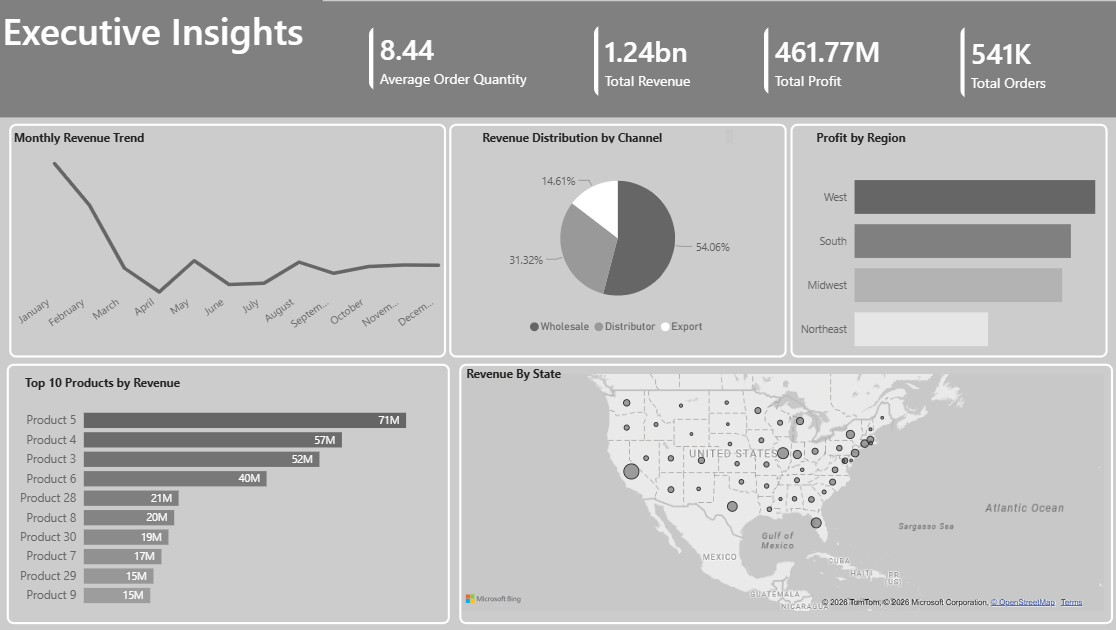

The dashboard page shown, as its layout file describes it:
{"tool":"powerbi","page":{"name":"Executive Insights ","canvas":[1280,720],"ordinal":0},"visuals":[{"type":"shape","box":[0,1.2,1280,132.7],"z":0},{"type":"textbox","box":[0,0,371.6,71.2],"z":1000},{"type":"cardVisual","fields":{"Data":["Avg(cleaned_data.order_quantity)"]},"box":[406.6,13.3,234,108.6],"z":2000},{"type":"shape","box":[12.3,141.3,499.5,267.6],"z":3000},{"type":"cardVisual","fields":{"Data":["Sum(cleaned_data.revenue)"]},"box":[664.7,12.1,156.8,117],"z":4000},{"type":"cardVisual","fields":{"Data":["Sum(cleaned_data.profit)"]},"box":[859,13.3,179.8,113.4],"z":5000},{"type":"cardVisual","fields":{"Data":["Sum(cleaned_data.order_quantity)"]},"box":[1083.4,13.3,150.8,117],"z":6000},{"type":"lineChart","fields":{"Category":["cleaned_data.order_month.Variation.Date Hierarchy.Month"],"Y":["Sum(cleaned_data.revenue)"]},"box":[12.3,168.8,511.8,219.6],"z":7000},{"type":"textbox","box":[12.5,142.5,545,27.5],"z":8000},{"type":"pieChart","fields":{"Y":["Sum(cleaned_data.revenue)"],"Category":["cleaned_data.channel"]},"box":[548.9,181.1,319.7,211.3],"z":9000},{"type":"textbox","box":[548.9,142.7,296.4,26.1],"z":10000},{"type":"shape","box":[516,141.3,385.6,267.6],"z":11000},{"type":"barChart","fields":{"Category":["cleaned_data.region"],"Y":["Sum(cleaned_data.profit)"]},"box":[907,172.9,373.2,249.7],"z":12000},{"type":"textbox","box":[930.4,142.7,153.7,35.7],"z":13000},{"type":"shape","box":[906.2,141.2,362.5,267.5],"z":14000},{"type":"map","fields":{"Size":["Sum(cleaned_data.revenue)"],"Category":["cleaned_data.state_name"]},"box":[523.8,422.5,745,281.2],"z":15000},{"type":"shape","box":[10,416.2,506.2,297.5],"z":16000},{"type":"shape","box":[527.5,415,747.5,297.5],"z":17000},{"type":"textbox","box":[530,412.5,477.5,27.5],"z":18000},{"type":"clusteredBarChart","fields":{"Category":["cleaned_data.product_name"],"Y":["Sum(cleaned_data.revenue)"]},"box":[13.8,450,498.8,253.8],"z":19000},{"type":"textbox","box":[26.2,422.5,300,33.8],"z":20000}]}

Visuals, with their boxes in screenshot pixels (x1, y1, x2, y2), scaled from the page's 1280x720 canvas onto the 1116x630 screenshot:
shape: locate(0, 1, 1115, 117)
textbox: locate(0, 0, 324, 62)
cardVisual - Avg(cleaned_data.order_quantity): locate(355, 12, 559, 107)
shape: locate(11, 124, 446, 358)
cardVisual - Sum(cleaned_data.revenue): locate(580, 11, 716, 113)
cardVisual - Sum(cleaned_data.profit): locate(749, 12, 906, 111)
cardVisual - Sum(cleaned_data.order_quantity): locate(945, 12, 1076, 114)
lineChart - cleaned_data.order_month.Variation.Date Hierarchy.Month x Sum(cleaned_data.revenue): locate(11, 148, 457, 340)
textbox: locate(11, 125, 486, 149)
pieChart - Sum(cleaned_data.revenue) x cleaned_data.channel: locate(479, 158, 757, 343)
textbox: locate(479, 125, 737, 148)
shape: locate(450, 124, 786, 358)
barChart - cleaned_data.region x Sum(cleaned_data.profit): locate(791, 151, 1115, 370)
textbox: locate(811, 125, 945, 156)
shape: locate(790, 124, 1106, 358)
map - Sum(cleaned_data.revenue) x cleaned_data.state_name: locate(457, 370, 1106, 616)
shape: locate(9, 364, 450, 624)
shape: locate(460, 363, 1112, 623)
textbox: locate(462, 361, 878, 385)
clusteredBarChart - cleaned_data.product_name x Sum(cleaned_data.revenue): locate(12, 394, 447, 616)
textbox: locate(23, 370, 284, 399)
